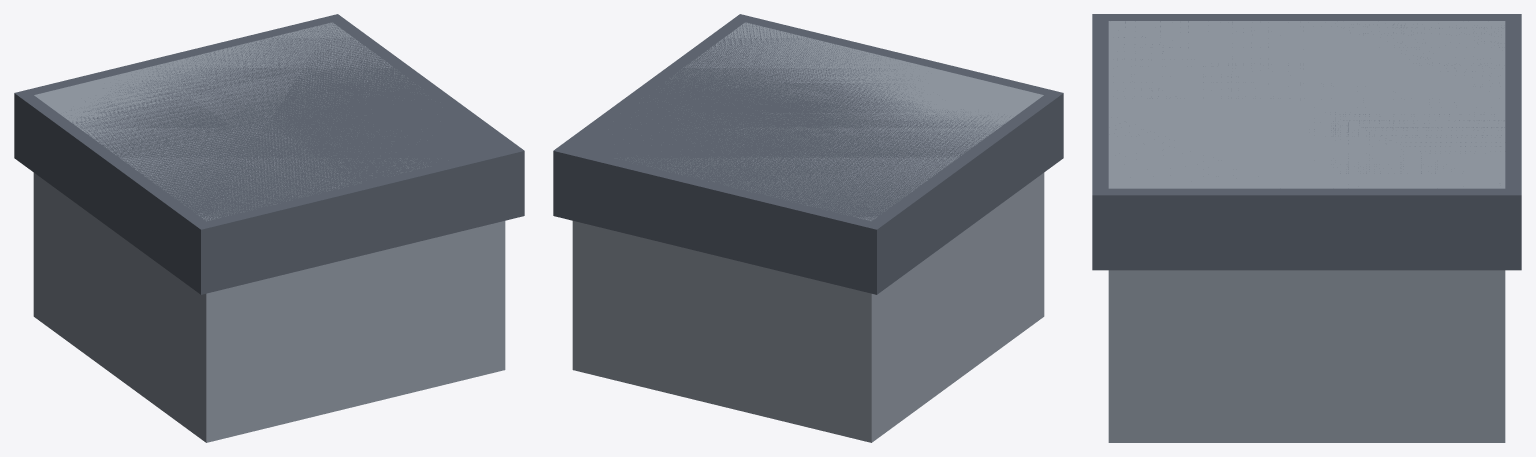
Rendered from procedural_arm_left_upper.glb.
3 views of the same model, side by side, from view 1: azimuth 30°, elevation 25°; view 2: azimuth 150°, elevation 25°; view 3: azimuth 270°, elevation 25° (orthographic). The views are drawn at different scales.
Parts seen in each view (by area): view 1: Pauldron, PauldronTrim; view 2: Pauldron, PauldronTrim; view 3: Pauldron, PauldronTrim.
Part boxes in pixels (x1,y1,x2,y2): Pauldron: [33, 22, 505, 442]; PauldronTrim: [14, 14, 524, 294]; Pauldron: [572, 22, 1044, 442]; PauldronTrim: [553, 14, 1063, 294]; Pauldron: [1108, 21, 1505, 442]; PauldronTrim: [1092, 14, 1521, 270].
Bounding box in the file's own units: 0.52 × 0.34 × 0.52.
